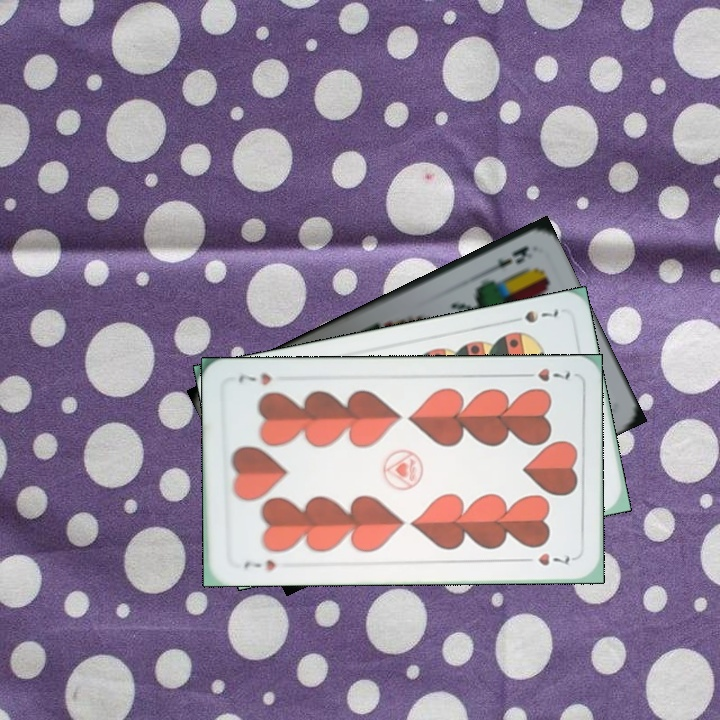EK: (480, 242, 536, 277)
H7: (516, 364, 572, 384), (240, 555, 279, 573)
S7: (505, 304, 561, 326)
